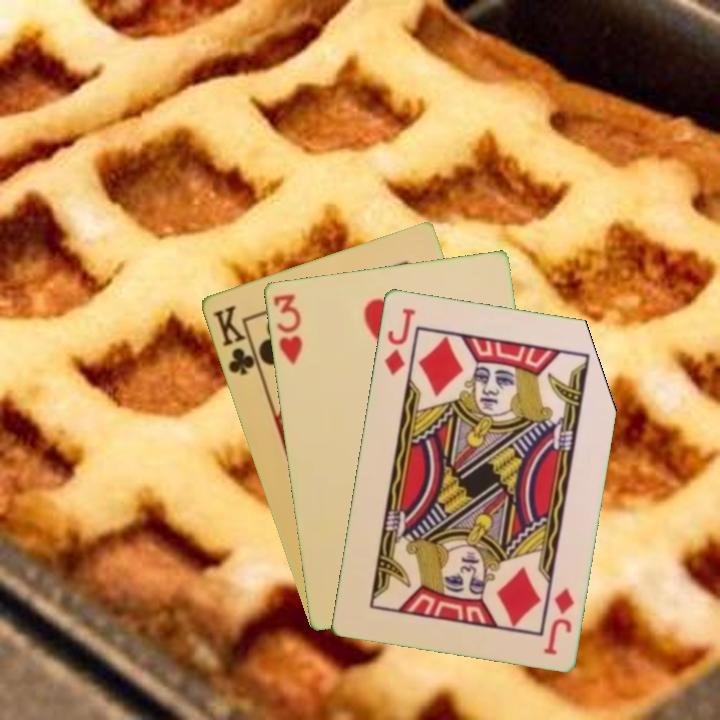3h: (269, 289, 305, 367)
Jd: (380, 304, 418, 378), (539, 584, 577, 657)
Kc: (208, 301, 262, 378)
